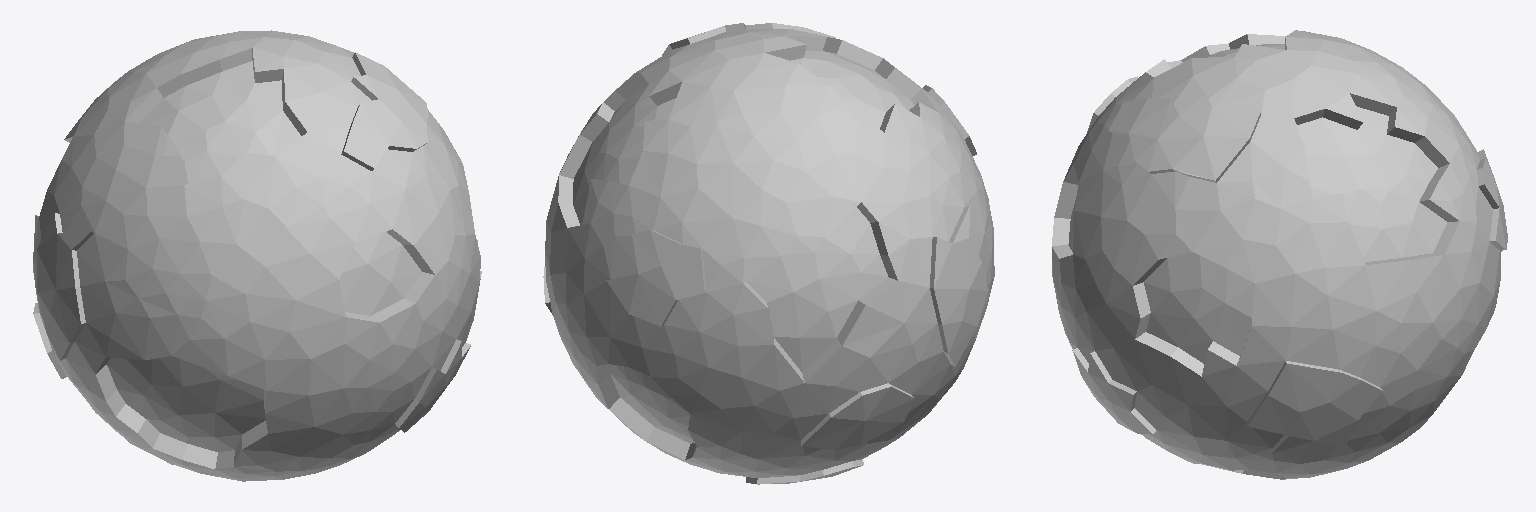
Rendered from planetF.obj.
The picture shows the model from 3 angles: view 1: azimuth 30°, elevation 25°; view 2: azimuth 150°, elevation 25°; view 3: azimuth 270°, elevation 25°; orthographic projection.
Parts seen in each view (by area): view 1: Planet_6_Cube.005; view 2: Planet_6_Cube.005; view 3: Planet_6_Cube.005.
Part boxes in pixels (bbox=[...]): Planet_6_Cube.005: bbox=[33, 30, 481, 481]; Planet_6_Cube.005: bbox=[543, 23, 994, 484]; Planet_6_Cube.005: bbox=[1052, 30, 1507, 479].
Bounding box in the file's own units: 1.68 × 1.64 × 1.65.